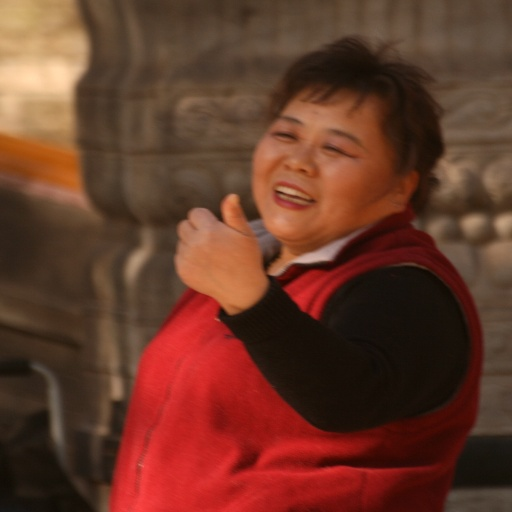hand: (183, 199, 291, 319)
